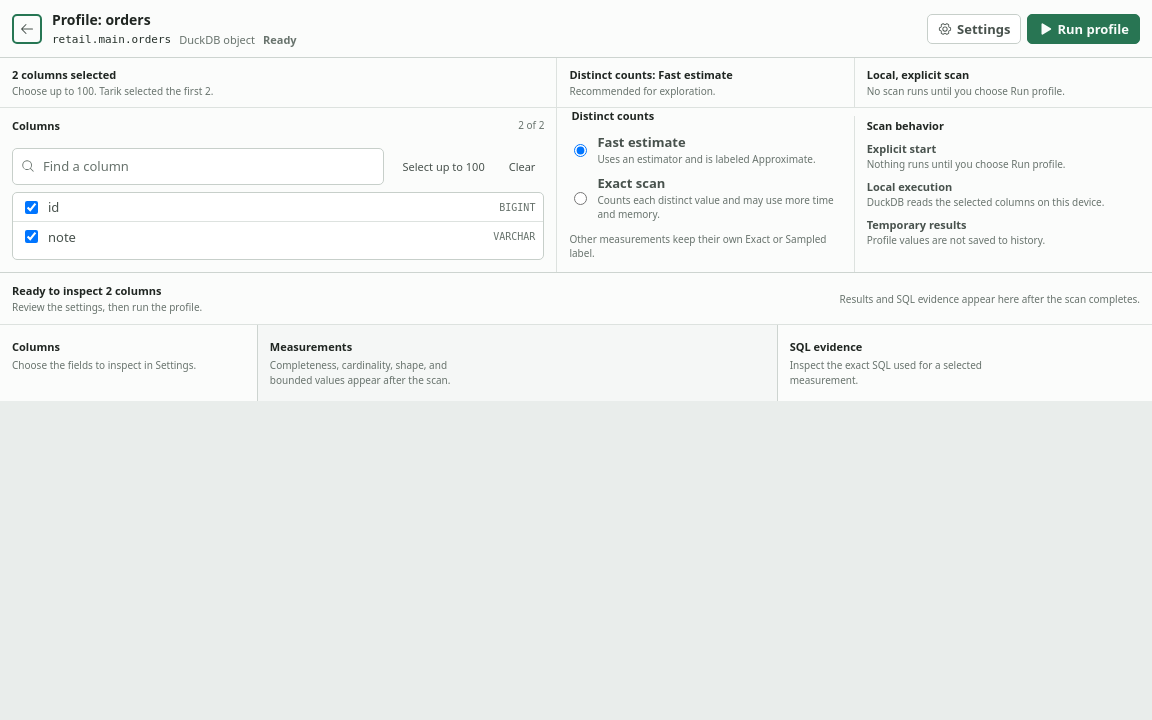
Scenario: ProfileWorkspace › groups one column's metrics and renders common values as value-count rows
Click the button "Run profile". click: (1084,28)
box: [1027, 14, 1140, 44]
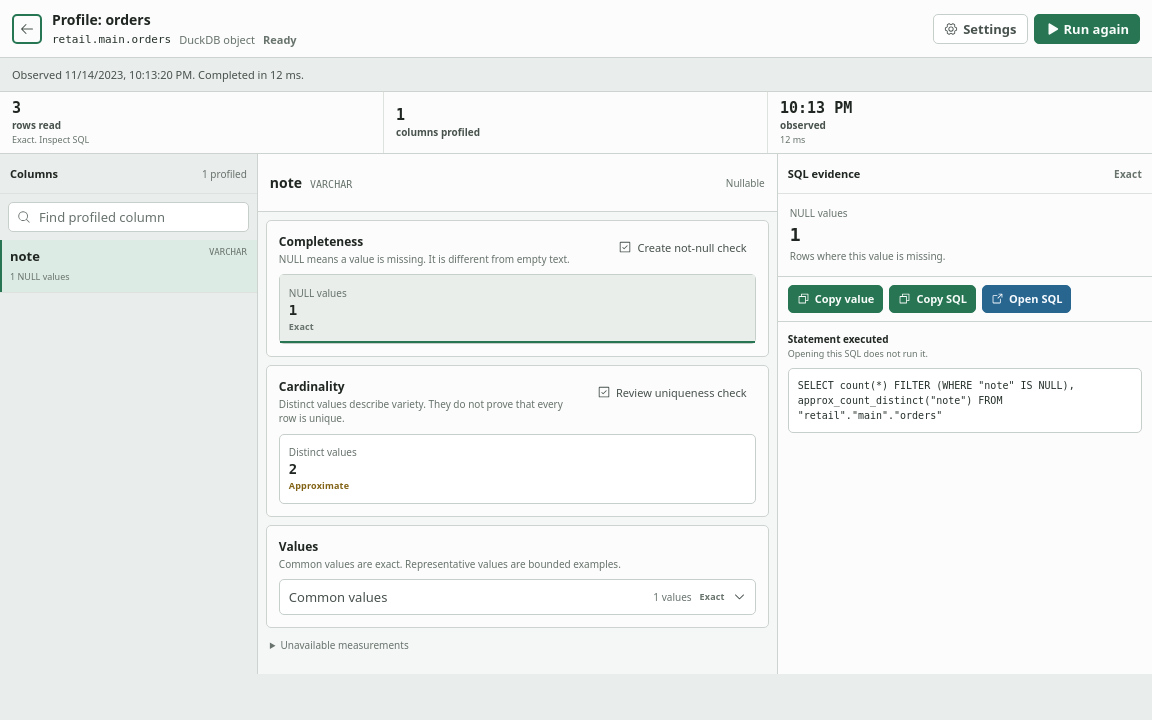
Expected: the heading "Completeness" is shown, [279, 233, 363, 250]
Expected: the heading "note" is shown, [270, 173, 302, 192]
Click the text "Common values". click: (338,597)
box: [289, 588, 387, 606]
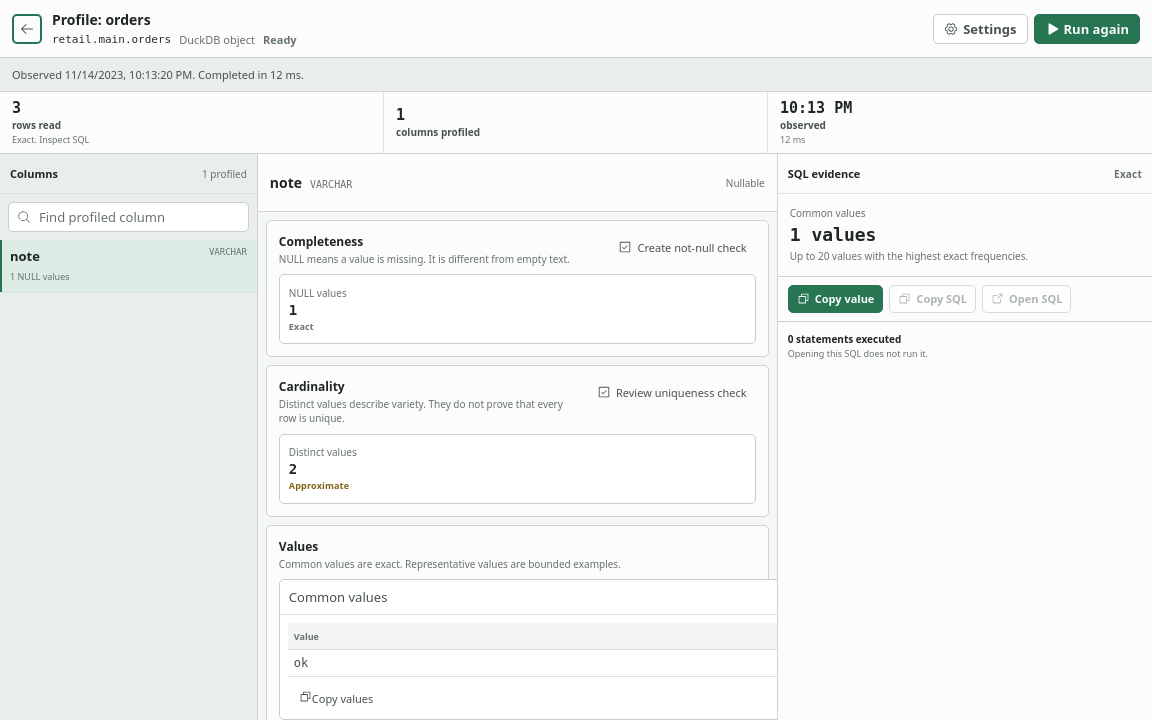
Expected: the column heading "Value" is shown, [288, 623, 778, 650]
Expected: the cell "ok" is shown, [288, 650, 778, 677]
